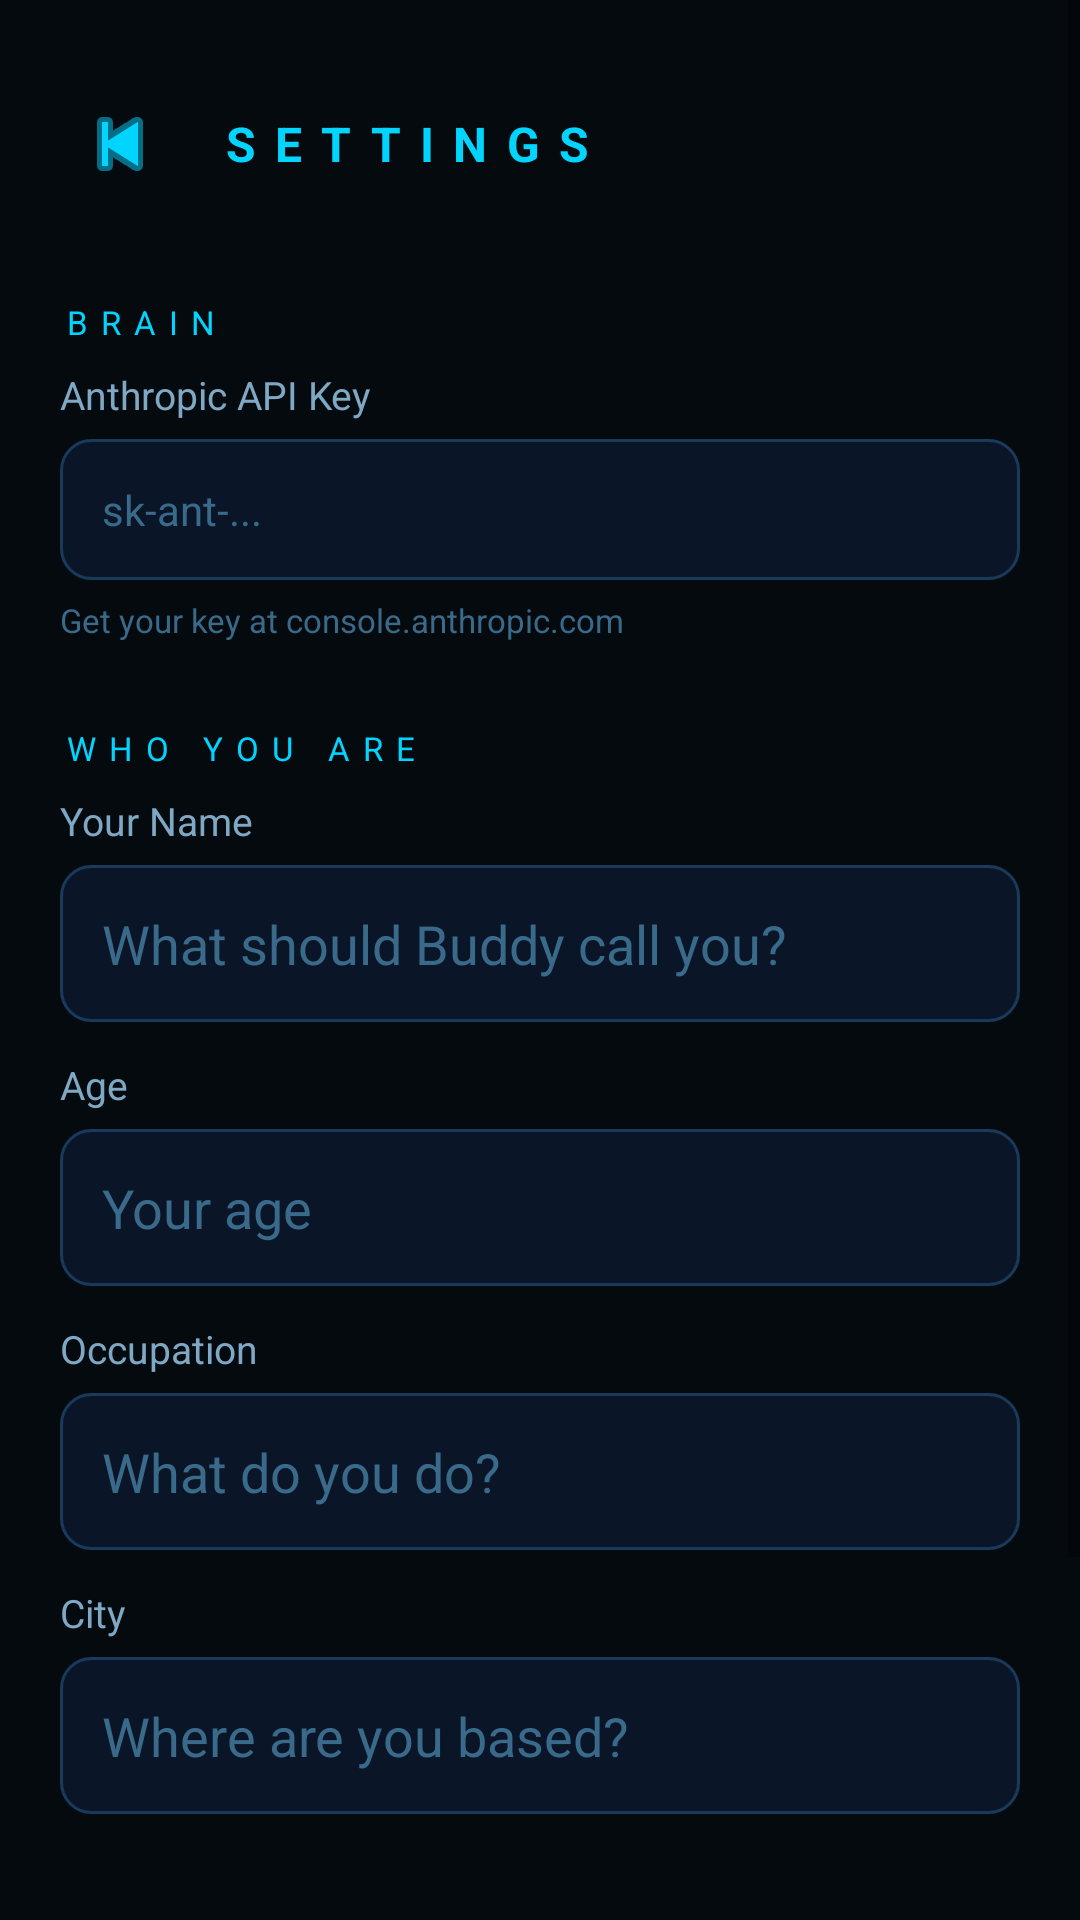

Icons on this 1080w x 1920h Android screen, each with its box as box(x1, y1, x2, y2):
Back: box(97, 117, 143, 171)
